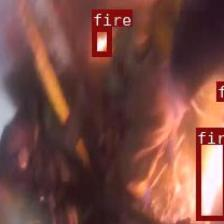fire: (195, 126, 224, 218), (92, 26, 110, 55), (215, 80, 224, 100)
